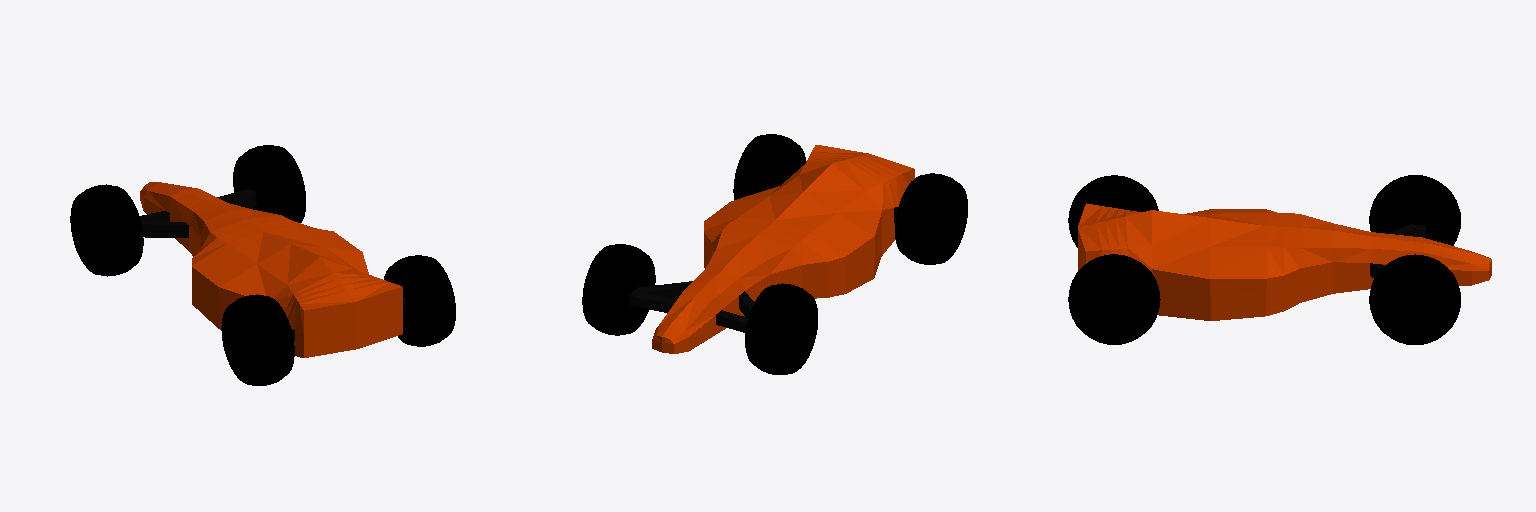
The model's file is car.obj.
The picture shows the model from 3 angles: view 1: azimuth 30°, elevation 25°; view 2: azimuth 150°, elevation 25°; view 3: azimuth 270°, elevation 25°; orthographic projection.
Visible parts, largest first — view 1: Cube; view 2: Cube; view 3: Cube.
Part boxes in pixels (x1,y1,x2,y2): Cube: (70,145,455,385); Cube: (582,134,967,374); Cube: (1068,175,1491,344).
Size of the model in its own units: 4.04 by 1.83 by 7.63.